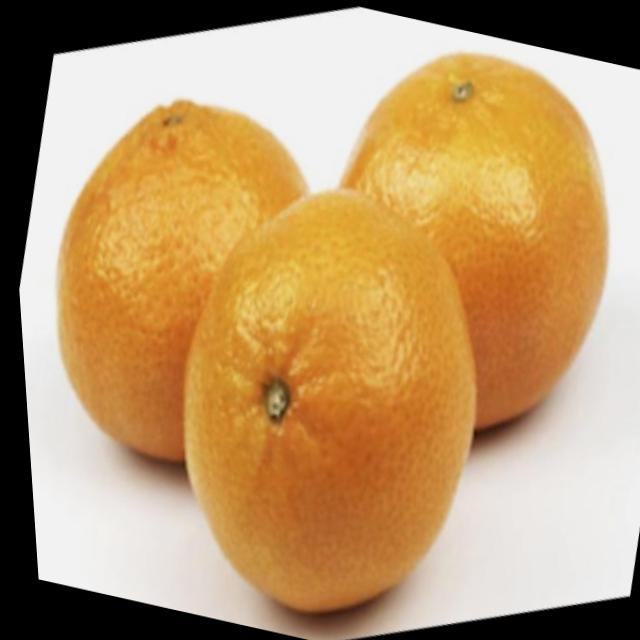Orange: (121, 154, 524, 640), (281, 22, 640, 454), (6, 73, 335, 485)
